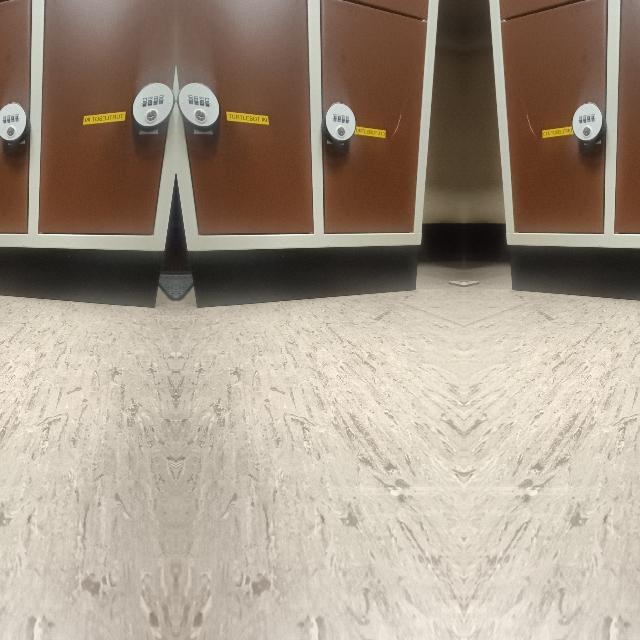obstacle: (182, 24, 426, 304), (0, 24, 168, 304), (501, 24, 640, 304)
